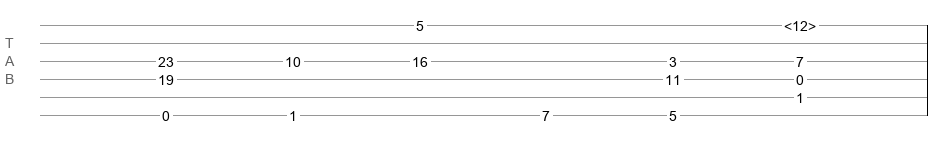0: (162, 108, 170, 118), (796, 72, 804, 82)
1: (289, 108, 297, 118), (796, 90, 804, 100)
10: (285, 54, 301, 64)
11: (665, 72, 681, 82)
16: (412, 54, 428, 64)
19: (158, 72, 174, 82)
23: (158, 54, 174, 64)
3: (669, 54, 677, 64)
5: (416, 18, 424, 28), (669, 108, 677, 118)
7: (542, 108, 550, 118), (796, 54, 804, 64)
harmonic: (784, 18, 816, 28)
